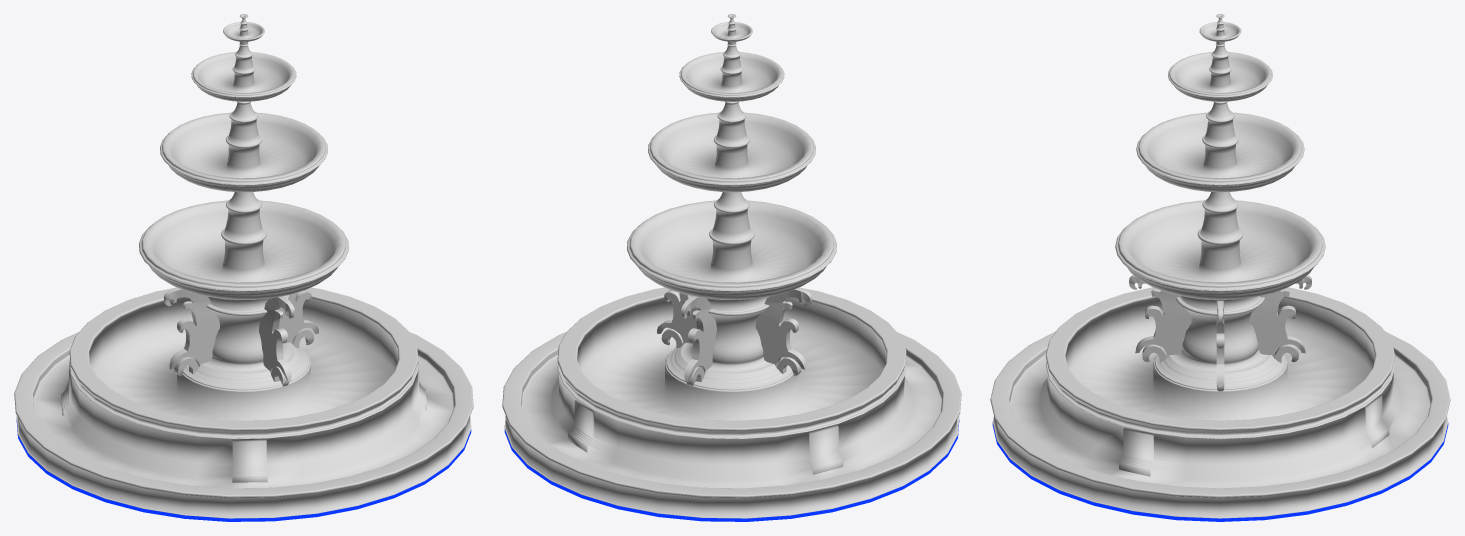
The model's file is Fontan lowpoly (2).fbx.
3 renders of one model, left to right at view 1: azimuth 30°, elevation 25°; view 2: azimuth 150°, elevation 25°; view 3: azimuth 270°, elevation 25°, orthographic.
Parts seen in each view (by area): view 1: FontanLOD0, Fontan.004, Fontan.005, Fontan.001, FontanLowPoly.023, FontanLowPoly.022, FontanLowPoly.024, Fontan.002; view 2: FontanLOD0, Fontan.004, Fontan.005, Fontan.001, FontanLowPoly.023, FontanLowPoly.021, FontanLowPoly.024, Fontan.002; view 3: FontanLOD0, Fontan.004, Fontan.005, Fontan.001, FontanLowPoly.021, FontanLowPoly.022, FontanLowPoly.024, Fontan.002.
Part boxes in pixels (x1,y1,x2,y2): FontanLOD0: (14,287,473,521); Fontan.004: (139,192,348,299); Fontan.005: (160,101,327,192); Fontan.001: (191,41,296,101); FontanLowPoly.023: (163,287,219,375); FontanLowPoly.022: (259,296,294,386); FontanLowPoly.024: (279,290,318,348); Fontan.002: (223,14,264,41); FontanLOD0: (502,287,961,521); Fontan.004: (627,192,836,299); Fontan.005: (648,101,815,192); Fontan.001: (679,41,784,101); FontanLowPoly.023: (755,288,811,376); FontanLowPoly.021: (681,296,716,386); FontanLowPoly.024: (657,290,696,348); Fontan.002: (711,14,752,41); FontanLOD0: (990,287,1450,521); Fontan.004: (1115,192,1325,299); Fontan.005: (1136,101,1304,192); Fontan.001: (1168,41,1272,101); FontanLowPoly.021: (1249,275,1311,362); FontanLowPoly.022: (1129,275,1191,362); FontanLowPoly.024: (1216,300,1224,391); Fontan.002: (1199,14,1241,41).
Size of the model in its own units: 305 by 300 by 305.
